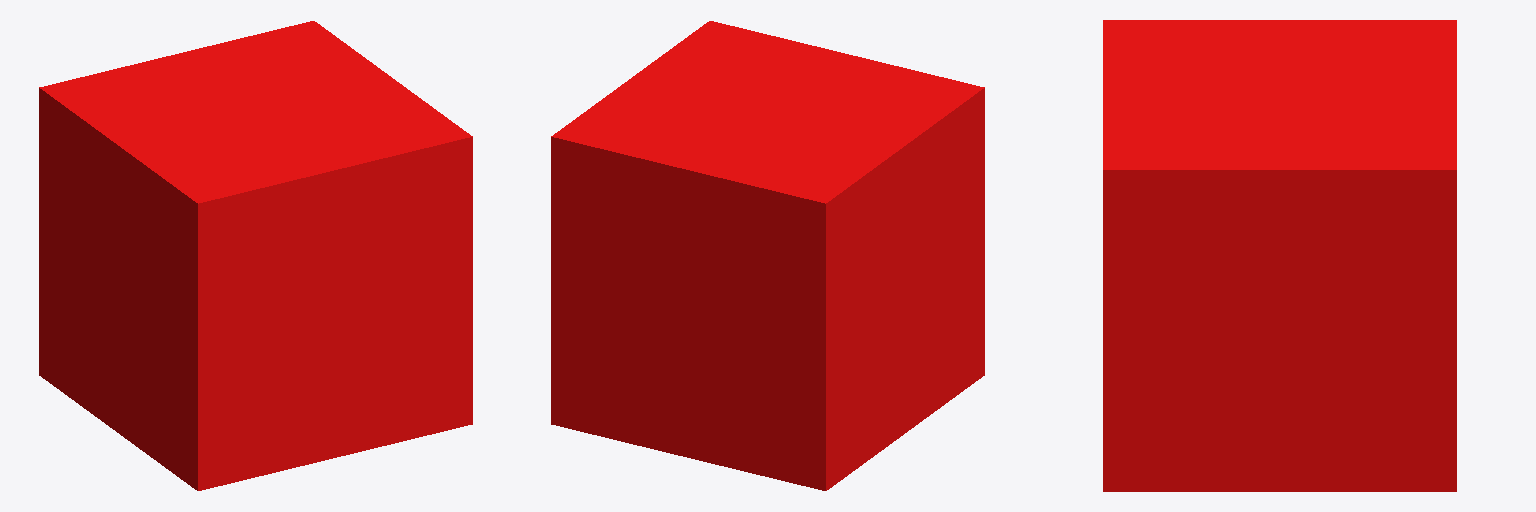
URDF robot description (simple_cuboid):
<?xml version="1.0"?>
<robot name="simple_cuboid">
  <link name="base_link">
    <inertial>
      <origin xyz="0 0 0" rpy="0 0 0" />
      <mass value="0.5" />
      <inertia ixx="0.00011" ixy="0" ixz="0" iyy="0.00011" iyz="0"
          izz="0.00011" />
    </inertial>
    <visual>
      <origin xyz="0 0 0" rpy="0 0 0" />
      <geometry>
        <box size="0.08 0.08 0.08" />
      </geometry>
      <material name="red">
        <color rgba="1 0.1 0.1 1" />
      </material>
    </visual>

    <collision>
      <geometry>
        <box size="0.08 0.08 0.08" />
      </geometry>
    </collision>
   </link>
</robot>

--- Render facts (derived) ---
Views: 3 orthographic renders of the robot side by side, from view 1: azimuth 30°, elevation 25°; view 2: azimuth 150°, elevation 25°; view 3: azimuth 270°, elevation 25°.
Robot: simple_cuboid — 1 links, 0 joints (none); root link base_link; default pose: every joint at zero.
Visible links, largest first — view 1: base_link; view 2: base_link; view 3: base_link.
Boxes of the visible links, x1,y1,x2,y2 form: base_link: (39, 21, 472, 490); base_link: (551, 21, 984, 490); base_link: (1103, 20, 1456, 491).
Bounding box of the posed robot: 0.08 × 0.08 × 0.08 m (x, y, z).
Geometry: primitives only (box / cylinder / sphere), no mesh files.